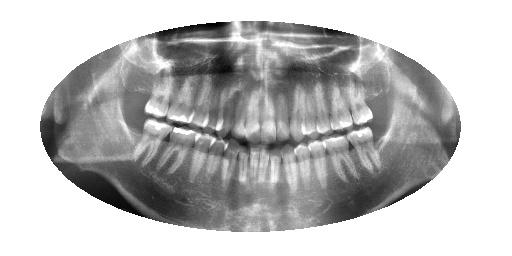Cavity: (258, 144, 271, 184), (238, 144, 251, 184)
